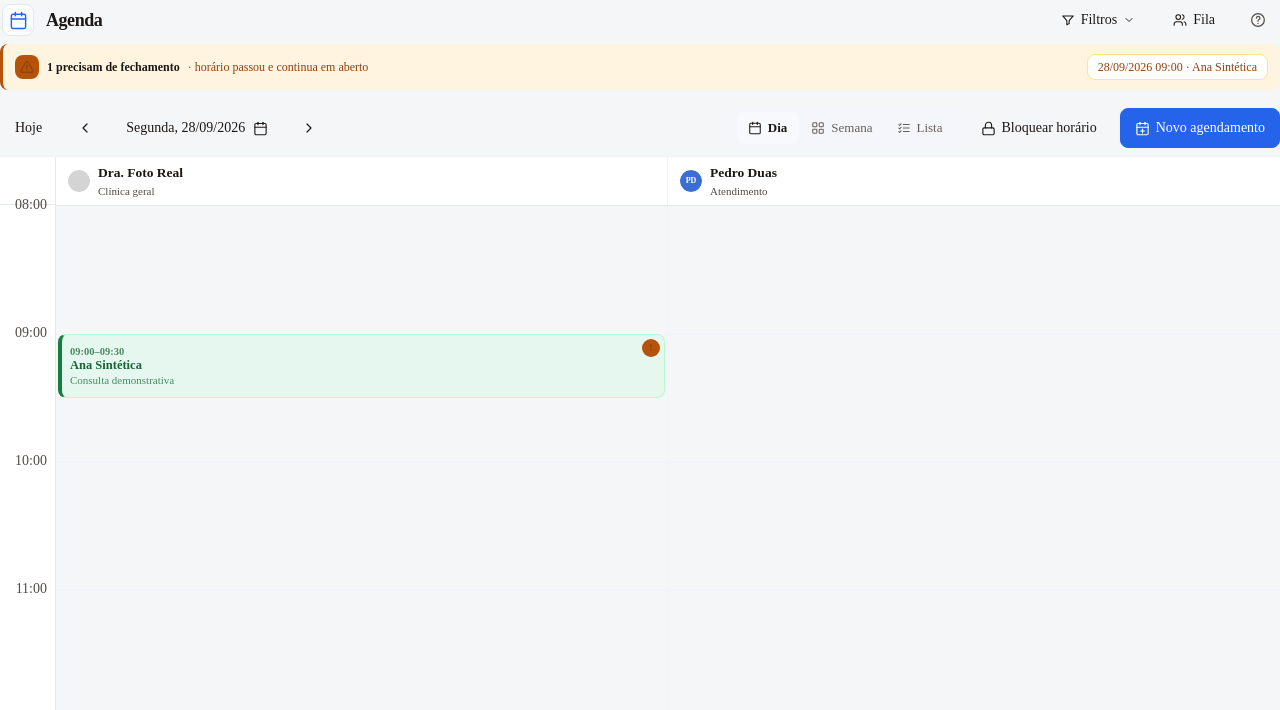
Test: CTA, Filtros e Fila continuam abrindo os fluxos existentes › 10. Filtros continua abrindo (popover com Status · Serviços · Profissional)
Expected: the text "Dra. Foto Real" is shown, [98, 163, 183, 183]
What coordinates should you click on to do the following:
click the button "Filtros"
I would click on:
 (1098, 20)
Its box is [1046, 0, 1150, 40].
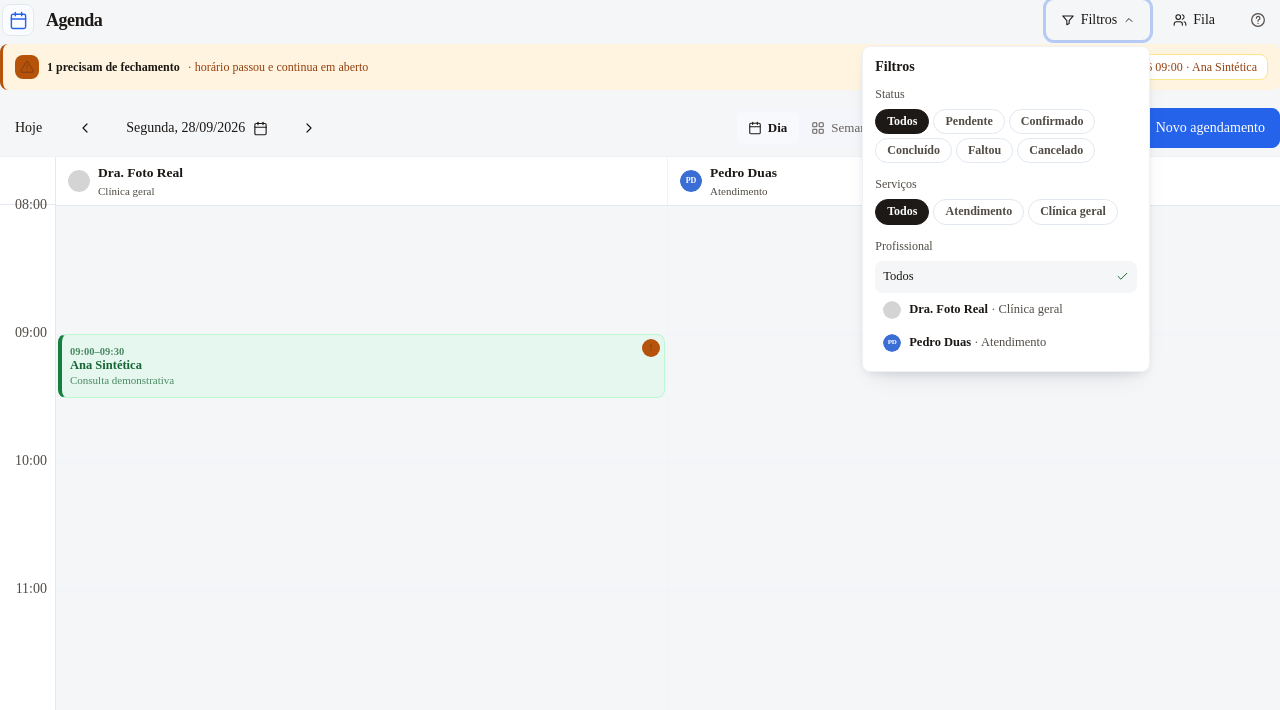
Expected: the text "Status" is shown, [875, 87, 904, 101]
Expected: the text "Serviços" is shown, [875, 177, 916, 191]
Expected: the text "Profissional" is shown, [875, 239, 932, 253]
